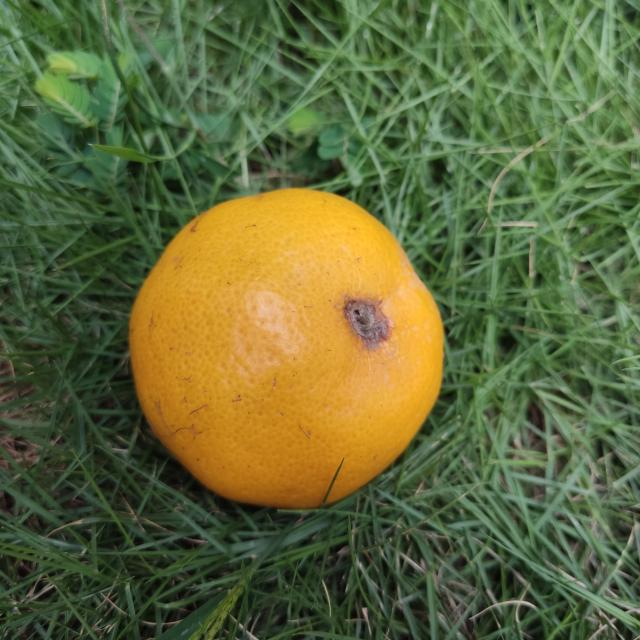orange: (126, 183, 451, 517)
